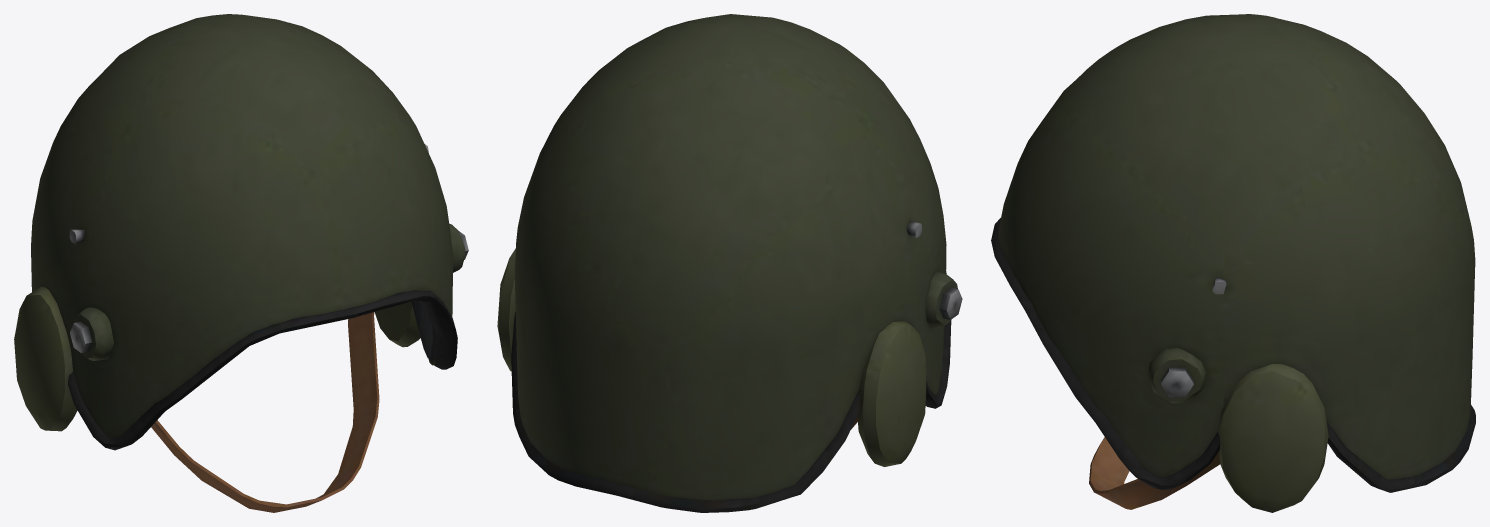
File: helmet_3_lod1.glb
The picture shows the model from 3 angles, left to right: view 1: azimuth 30°, elevation 25°; view 2: azimuth 150°, elevation 25°; view 3: azimuth 270°, elevation 25°; orthographic projection. The views are drawn at different scales.
Parts seen in each view (by area): view 1: body; view 2: body; view 3: body.
Boxes of the visible parts, bbox=[...] form: body: bbox=[14, 14, 468, 512]; body: bbox=[497, 14, 962, 512]; body: bbox=[991, 14, 1475, 512].
Size of the model in its own units: 0.274 by 0.2944 by 0.2785.
1 material, 1 textured.
